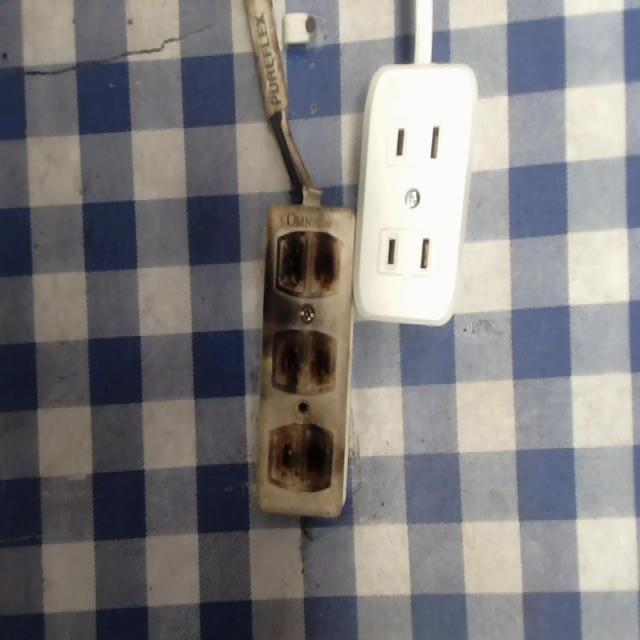-: (265, 420, 336, 503), (266, 323, 343, 396), (279, 225, 343, 304)
